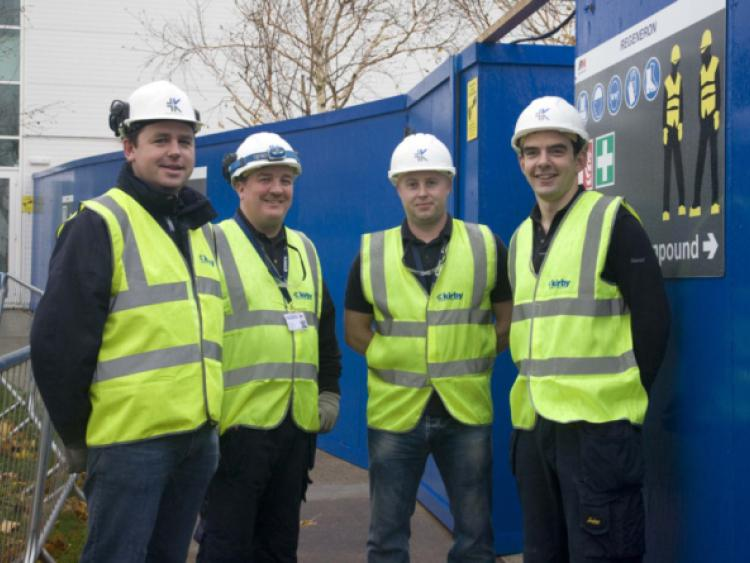Helmet: (106, 75, 208, 196), (506, 94, 600, 200), (223, 128, 315, 228), (382, 130, 467, 221)
Reflective vest: (53, 187, 228, 448), (504, 185, 651, 432), (359, 216, 498, 438), (216, 216, 327, 443)
